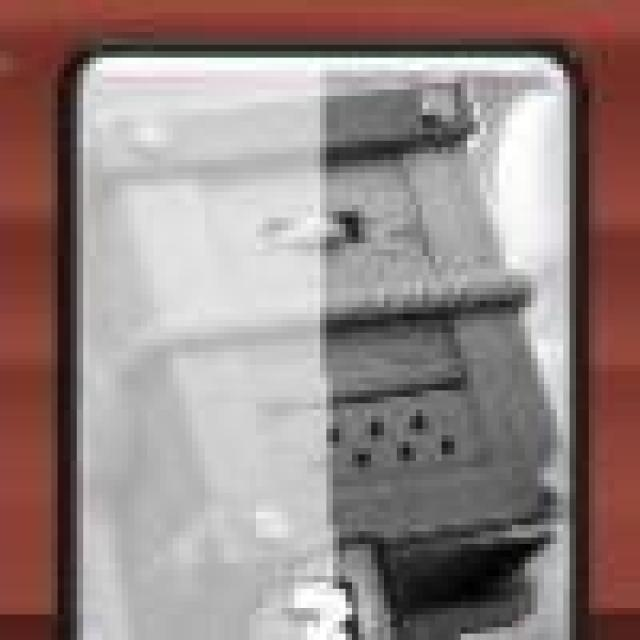Royal_Delivery: (65, 56, 584, 640)
